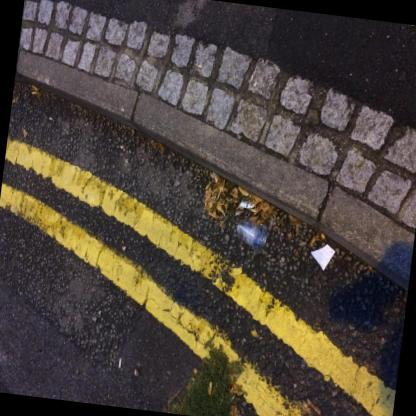Paper: (311, 243, 335, 269)
Plastic: (237, 218, 267, 252)
Waste: (239, 193, 254, 207)
